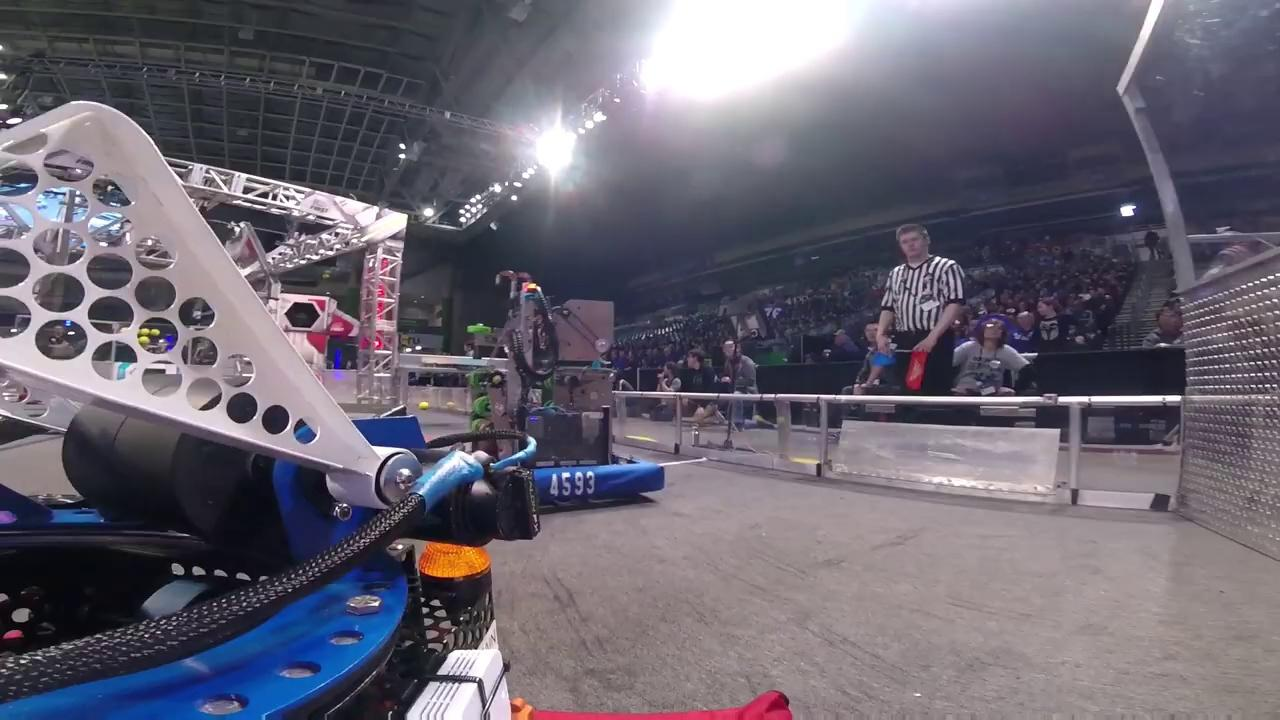robot: (473, 271, 666, 513)
